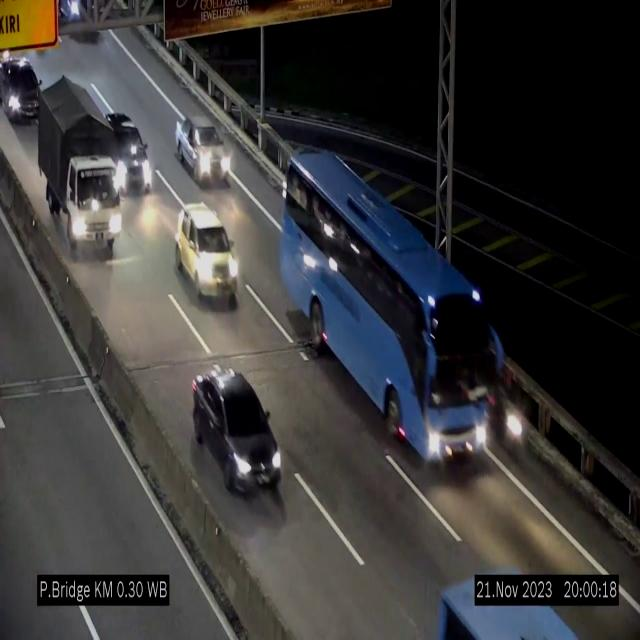Bus: (278, 140, 503, 484)
Car: (193, 367, 282, 493), (175, 203, 239, 305), (103, 110, 153, 198), (175, 116, 231, 186), (0, 56, 43, 122)
Motorcycle: (491, 366, 523, 454)
Truck: (35, 71, 126, 256)
